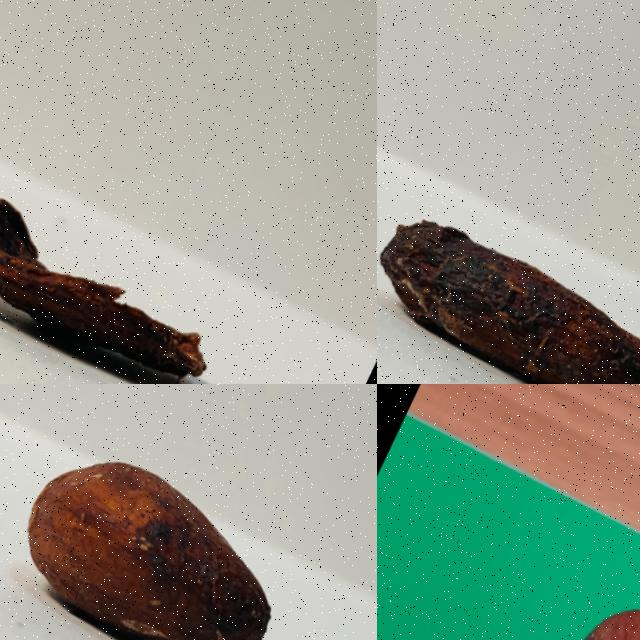Fine_cocoabeans: (0, 384, 376, 639), (377, 117, 639, 383), (404, 507, 639, 639)
Flat_cocoabeans: (0, 129, 306, 383)
